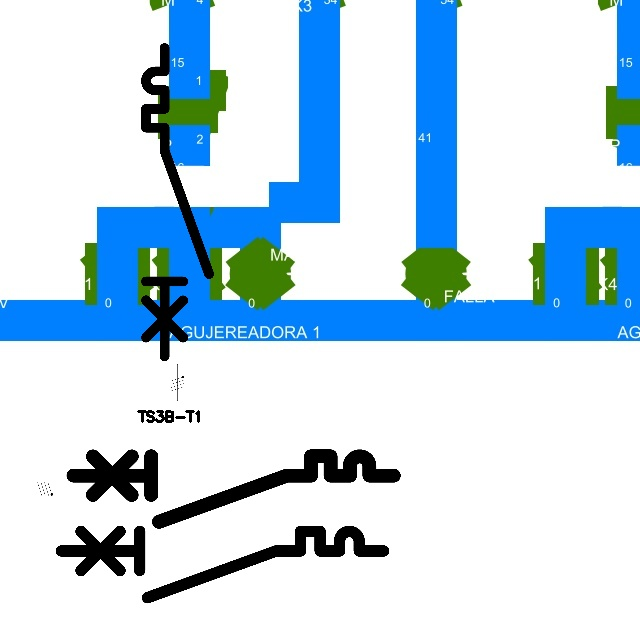interruptor_termomagnetico: (53, 523, 392, 606), (65, 448, 402, 530), (138, 40, 217, 364)
